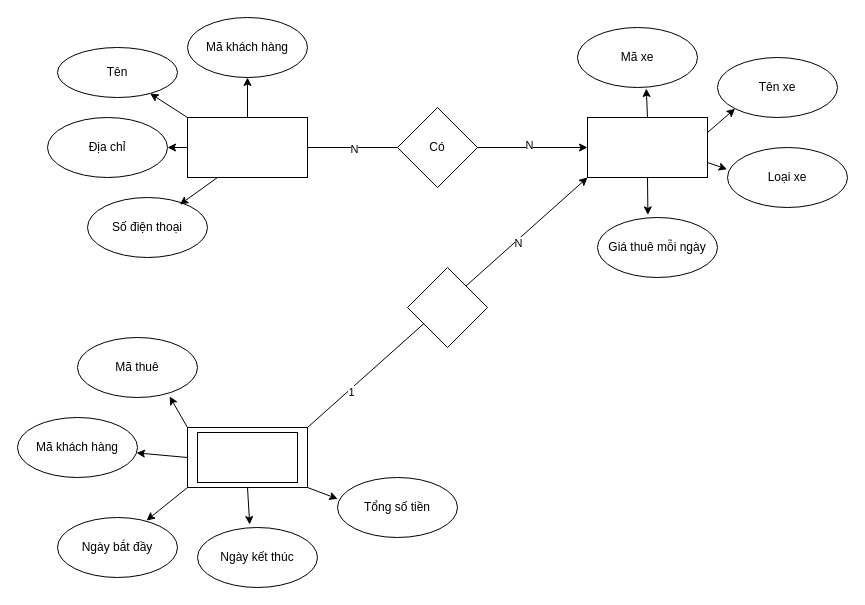
This 865x605 diagram has some shape labels left out. Here are the shapes that lost their labels. From the top down, the centre of each, then its label:
At point (247, 147): "Customer".
At point (647, 147): "Car".
At point (247, 457): "Rental".
